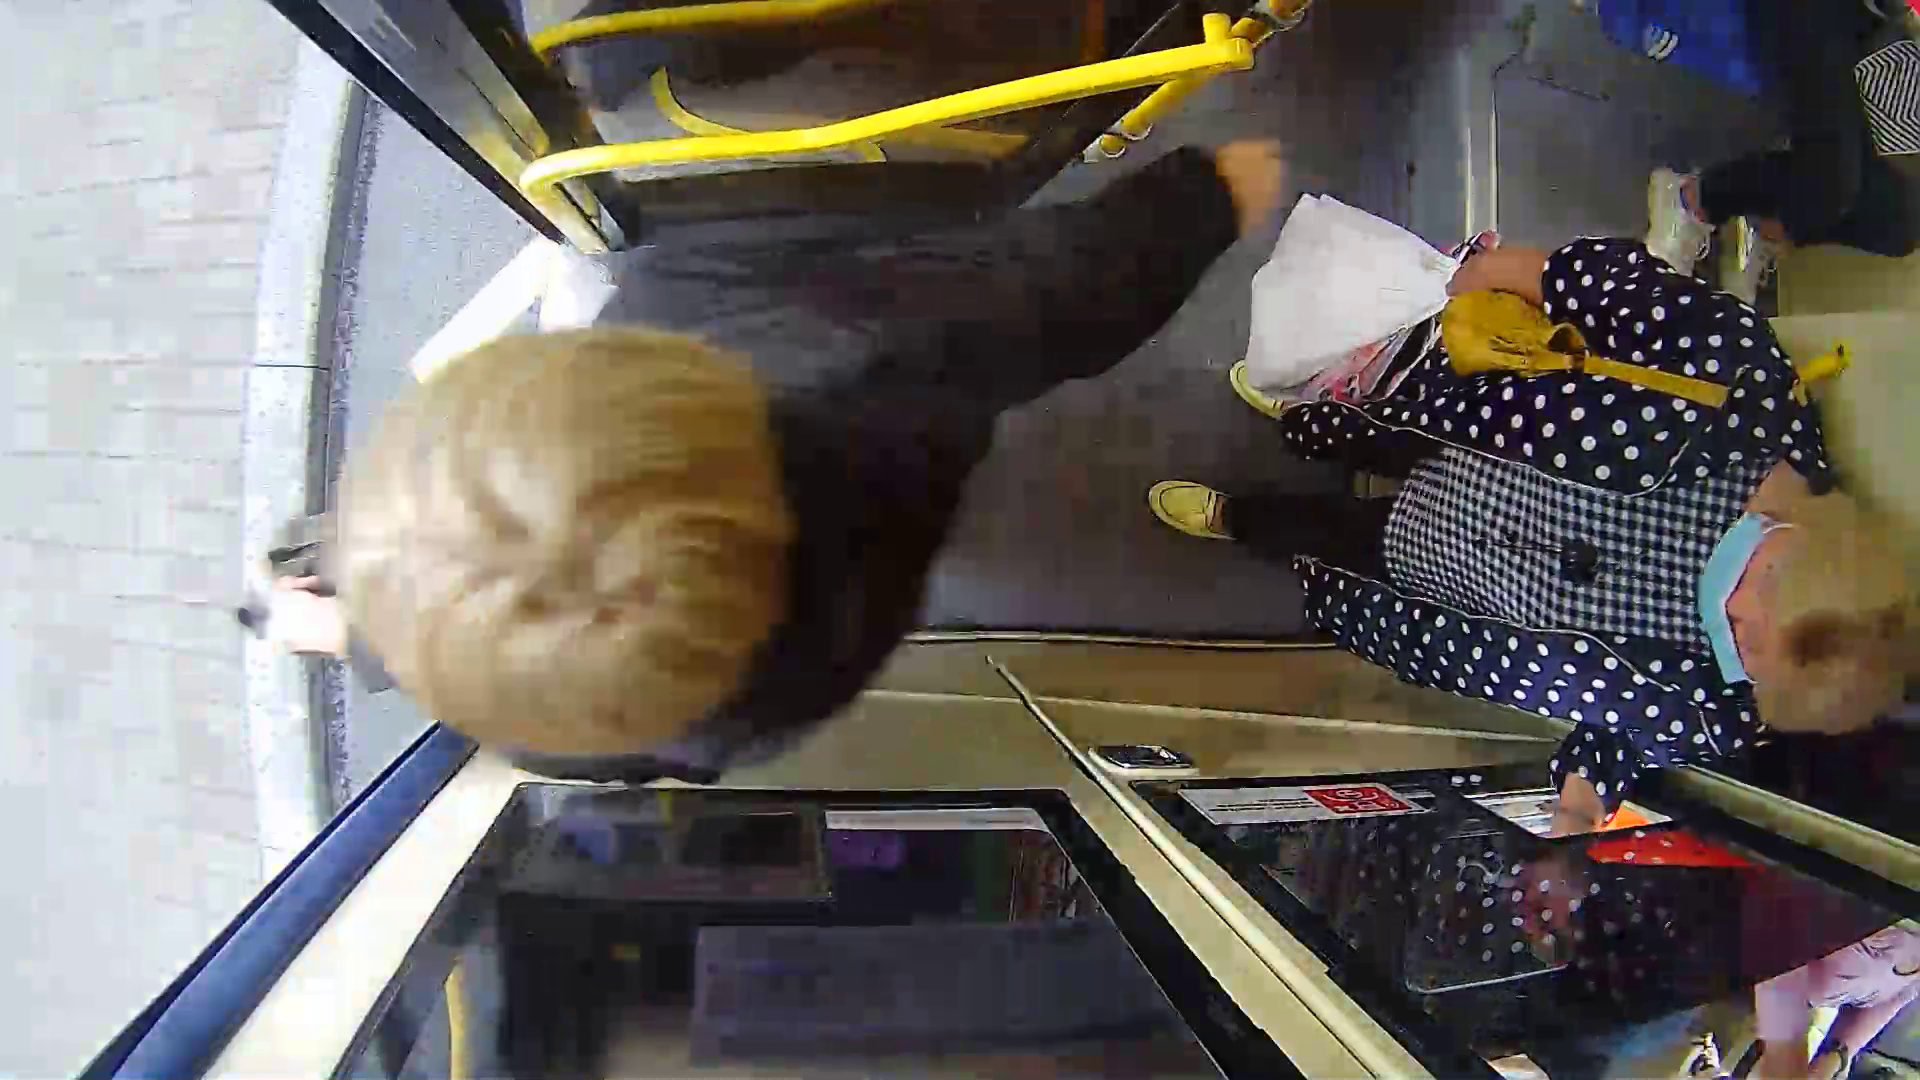person: (387, 111, 1154, 773), (1232, 187, 1895, 815)
